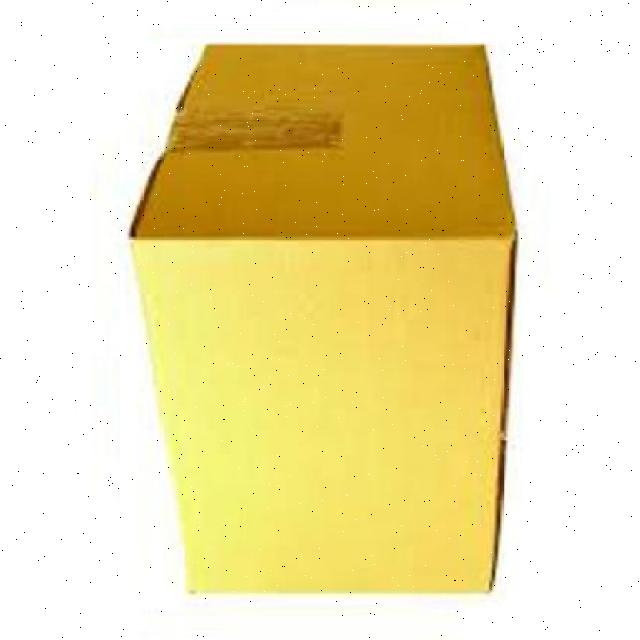normal: (120, 42, 523, 608)
